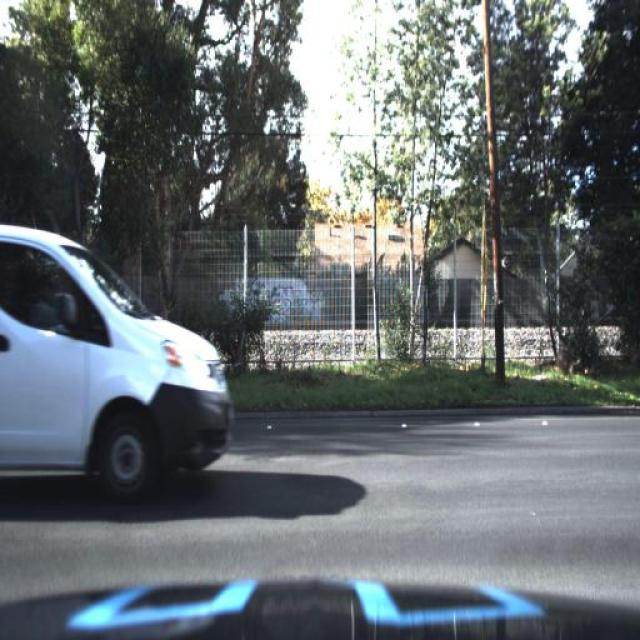car: (2, 215, 240, 510)
